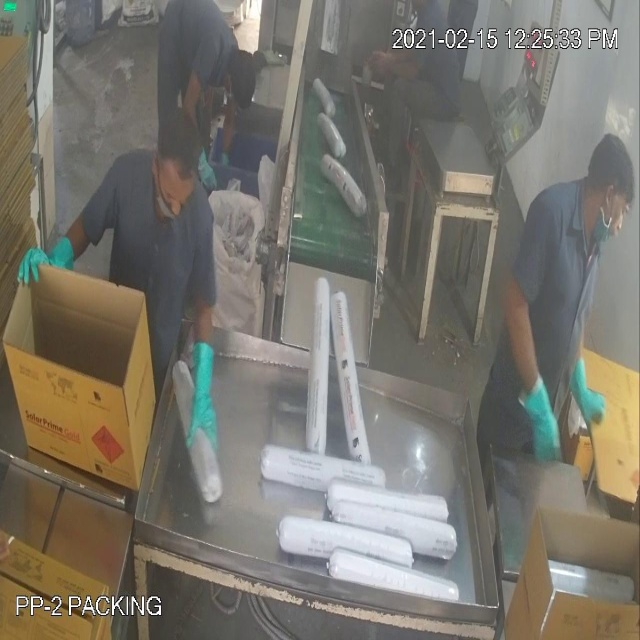Guantes: (518, 356, 567, 474), (182, 326, 225, 460), (14, 224, 80, 299)
Sin_guantes: (365, 46, 438, 92)
